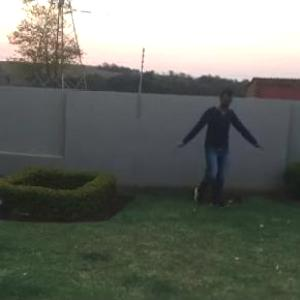land: (178, 100, 259, 213)
